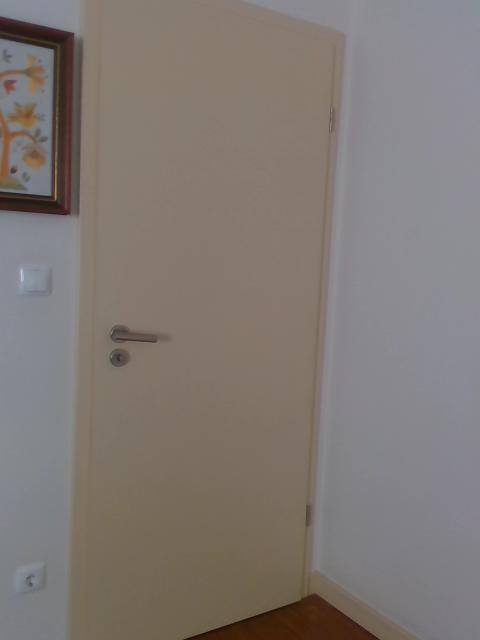door: (90, 1, 338, 638)
